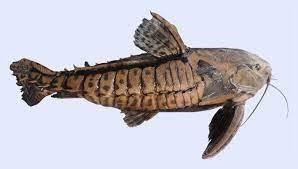Janitor Fish: (9, 10, 290, 160)
